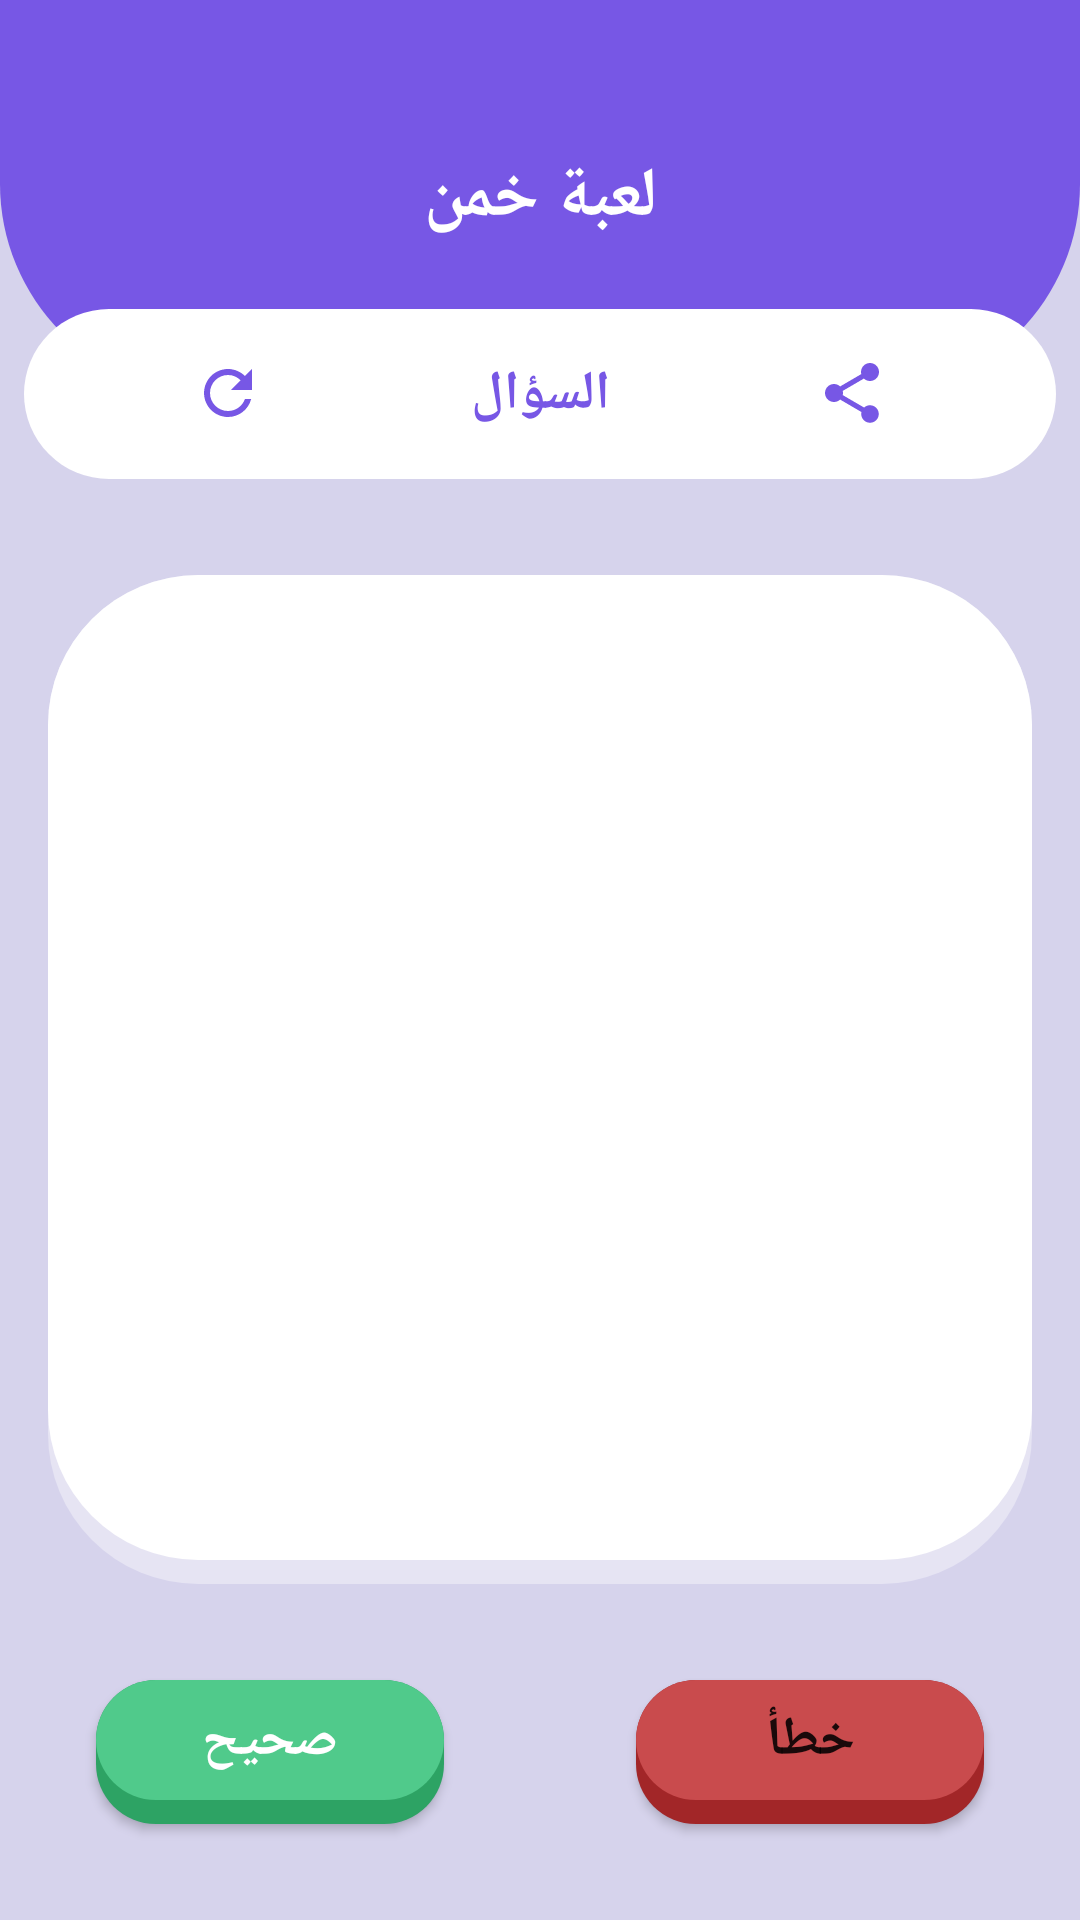

Screen size 1080w x 1920h. Icon name, then its box in pixels as (x1, y1, x2, y2):
refresh: (204, 369, 252, 417)
share: (825, 363, 879, 423)
